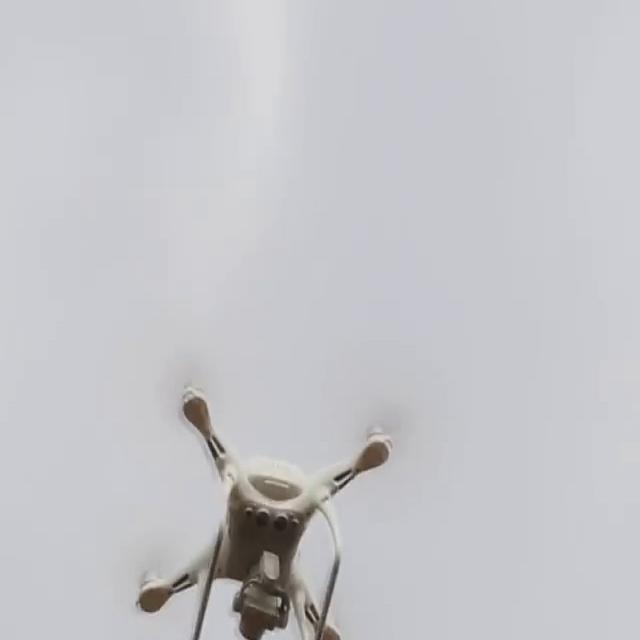drone: (127, 369, 407, 640)
